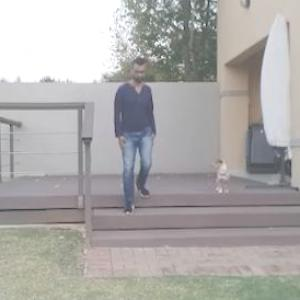follow: (113, 56, 152, 213)
